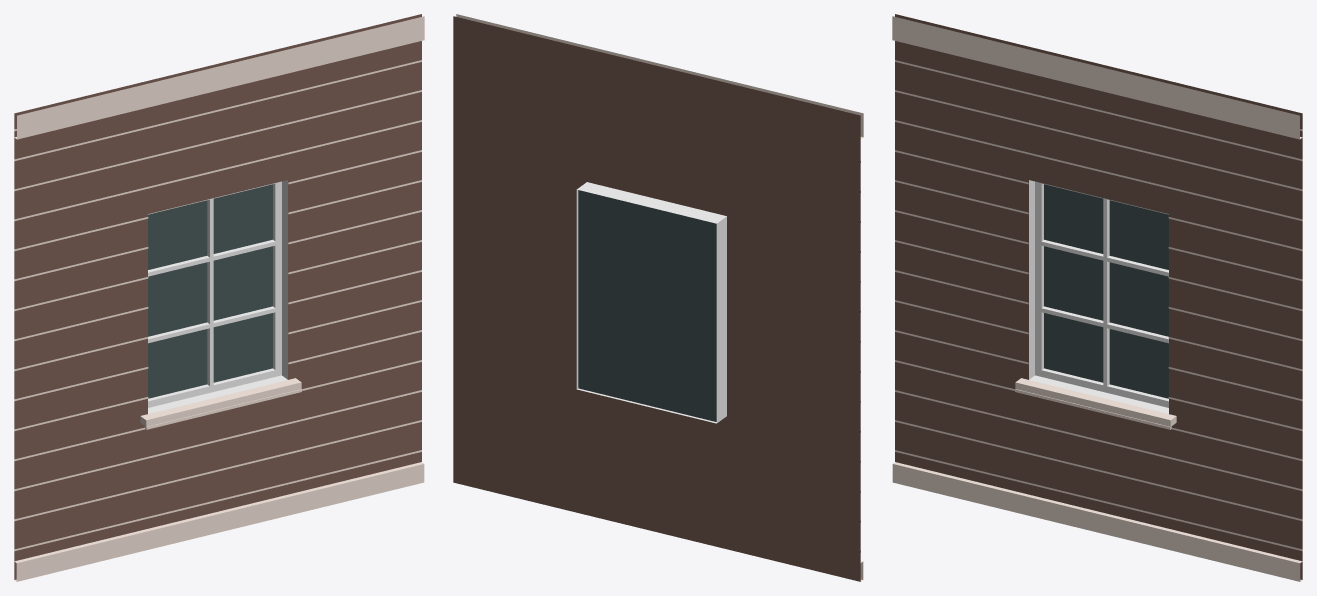
Rendered from top-w3_close.fbx.
The picture shows the model from 3 angles, left to right: view 1: azimuth 30°, elevation 25°; view 2: azimuth 150°, elevation 25°; view 3: azimuth 330°, elevation 25°; orthographic projection.
Visible parts, largest first — view 1: a2000s3/600/top-w3_close; view 2: a2000s3/600/top-w3_close; view 3: a2000s3/600/top-w3_close.
Part boxes in pixels (left/top/right/bottom): a2000s3/600/top-w3_close: left=14, top=14, right=424, bottom=581; a2000s3/600/top-w3_close: left=453, top=14, right=863, bottom=581; a2000s3/600/top-w3_close: left=892, top=14, right=1302, bottom=581.
Bounding box in the file's own units: 3.2 × 3.5 × 0.225.
